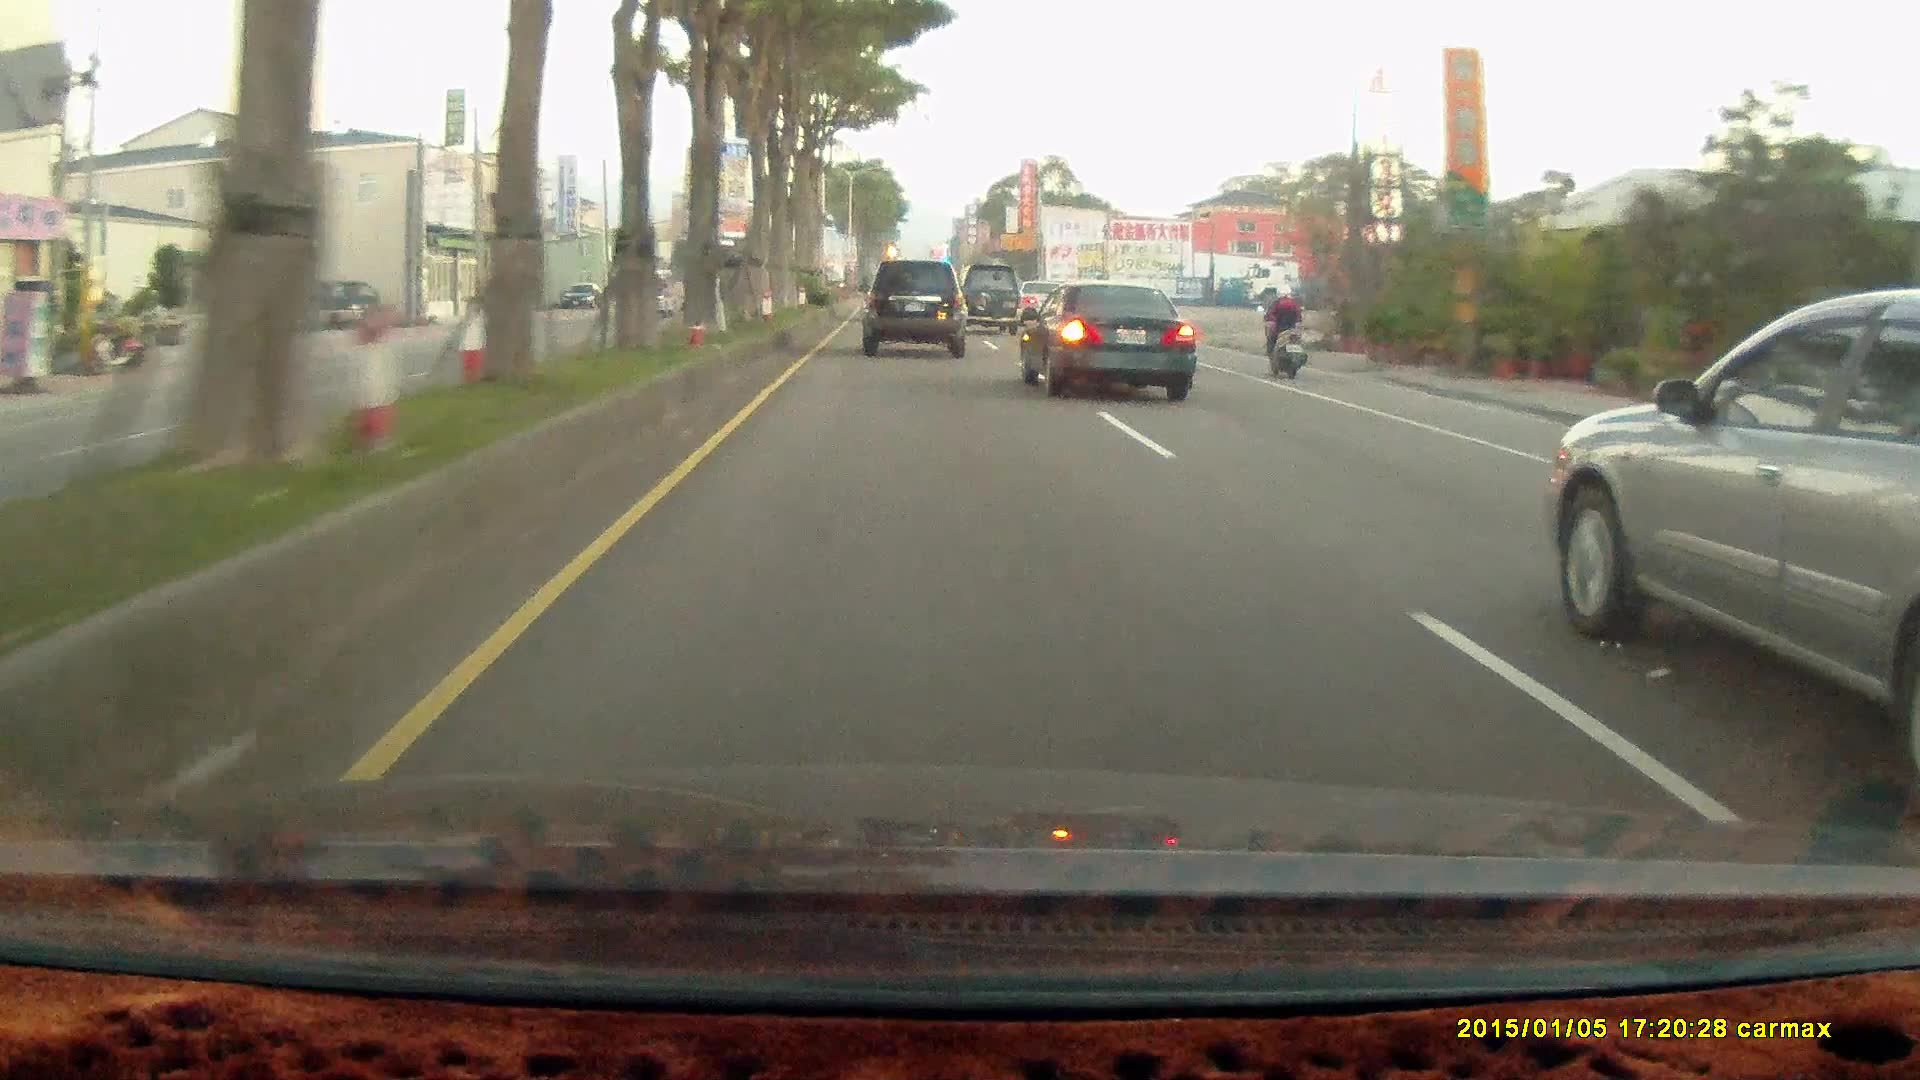rider: (1254, 277, 1319, 387), (1256, 285, 1307, 382)
vehicle: (1540, 296, 1918, 810), (1017, 281, 1198, 404), (1018, 279, 1195, 403), (1251, 257, 1476, 312), (859, 261, 969, 362), (861, 257, 965, 355), (950, 265, 1025, 340), (950, 264, 1025, 336), (286, 281, 380, 337), (285, 280, 378, 333), (560, 283, 599, 307)
